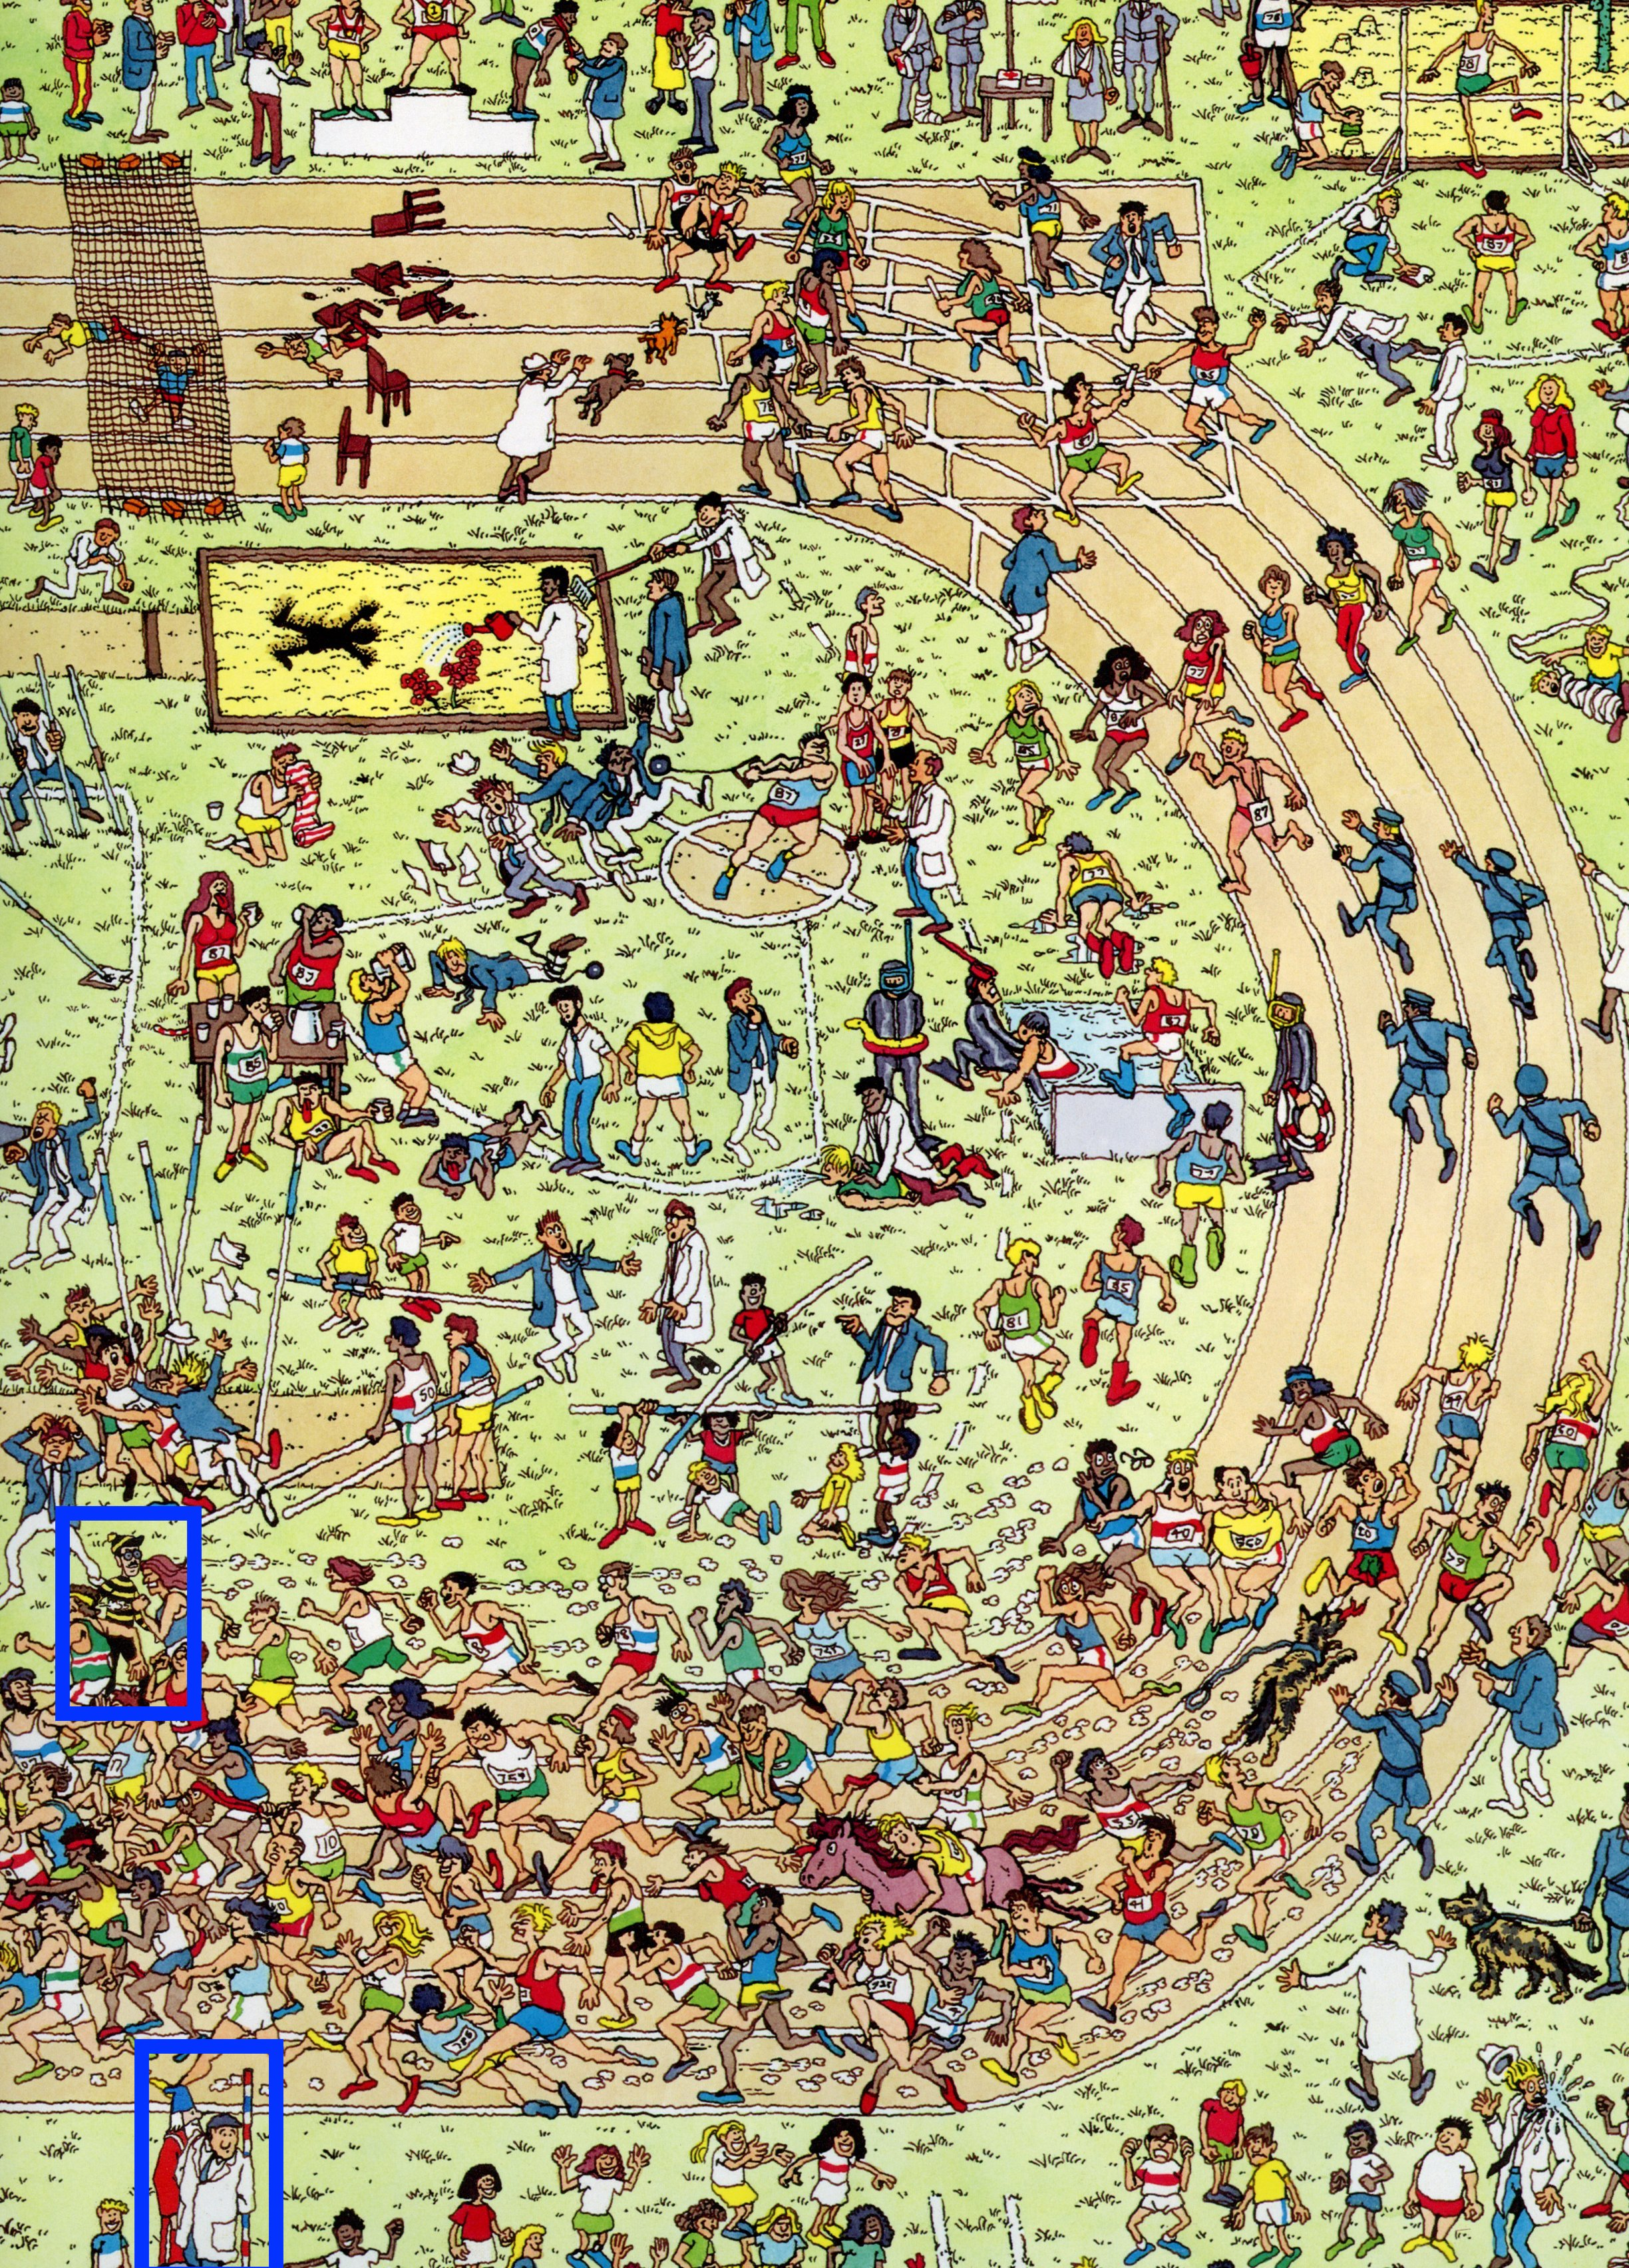odlaw: (46, 1518, 188, 1731)
white beard: (130, 2041, 284, 2257)
